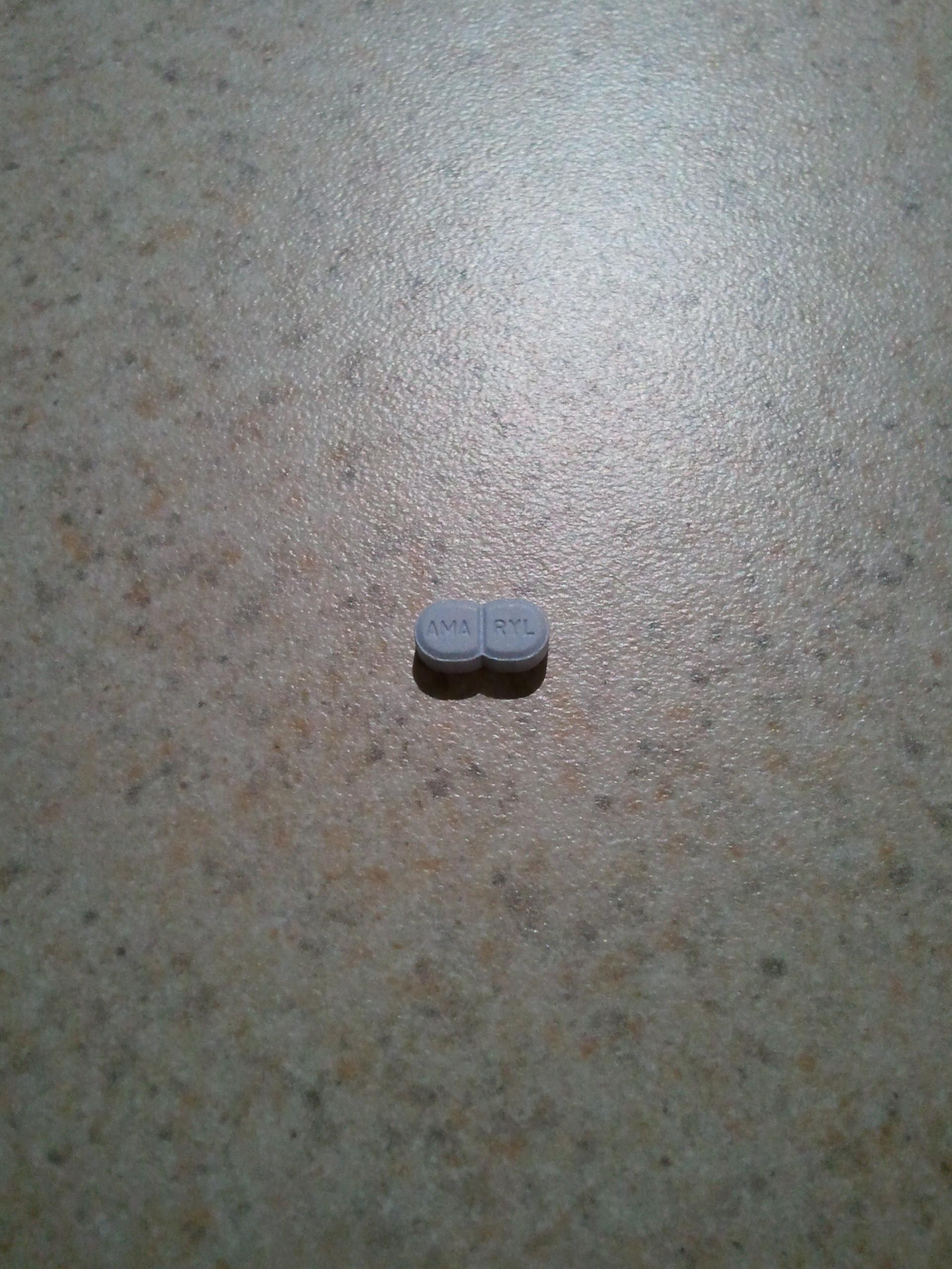Pill: (399, 582, 566, 683)
